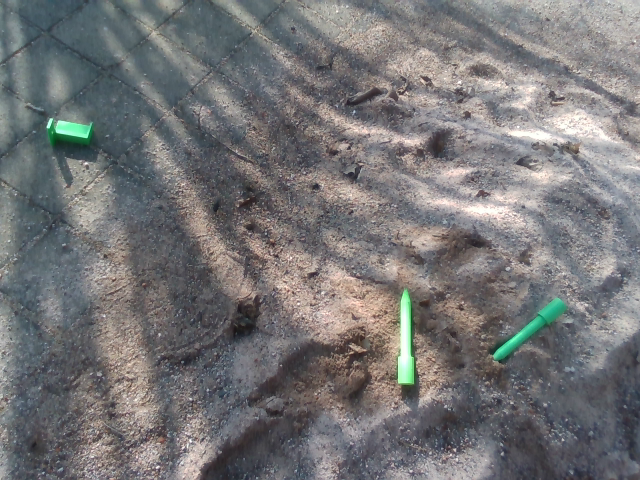Probe: (484, 293, 570, 370), (393, 283, 421, 392)
